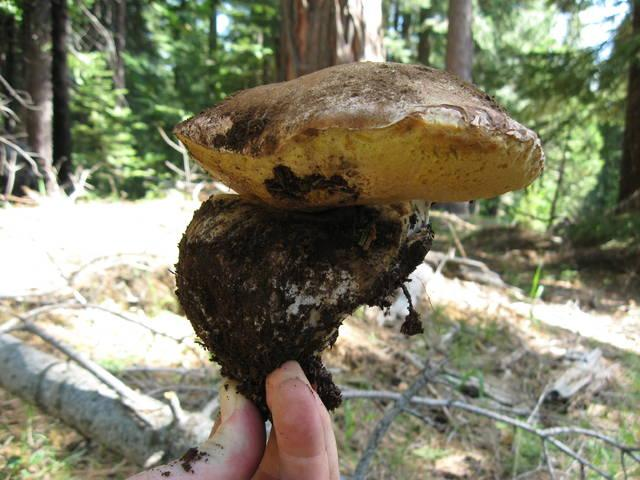Edible Mushroom: (169, 58, 545, 422)
